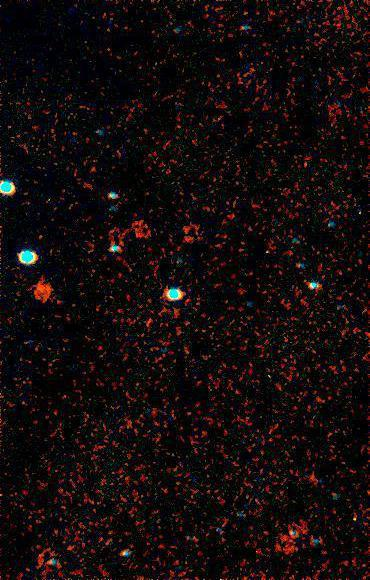star: (293, 151, 323, 181)
